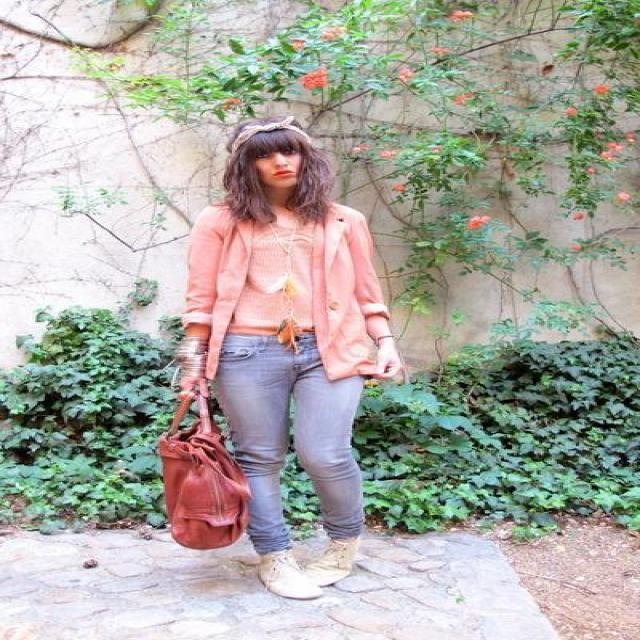bag: (150, 420, 264, 550)
jacket: (182, 202, 400, 380)
pants: (211, 320, 400, 559)
shirt: (242, 217, 324, 334)
shoe: (264, 532, 350, 594)
